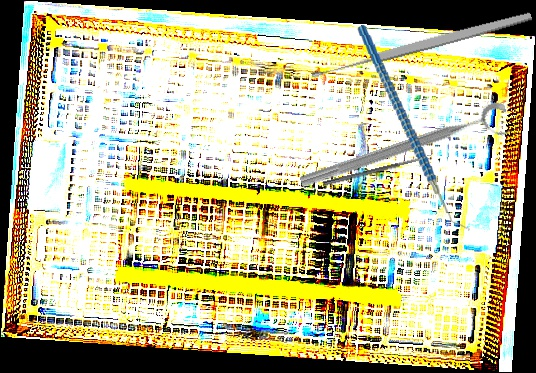Chopper: (356, 16, 472, 241)
Fixation Ring: (297, 99, 514, 205)
Surgical Spoon: (310, 9, 533, 82), (322, 154, 433, 187)
